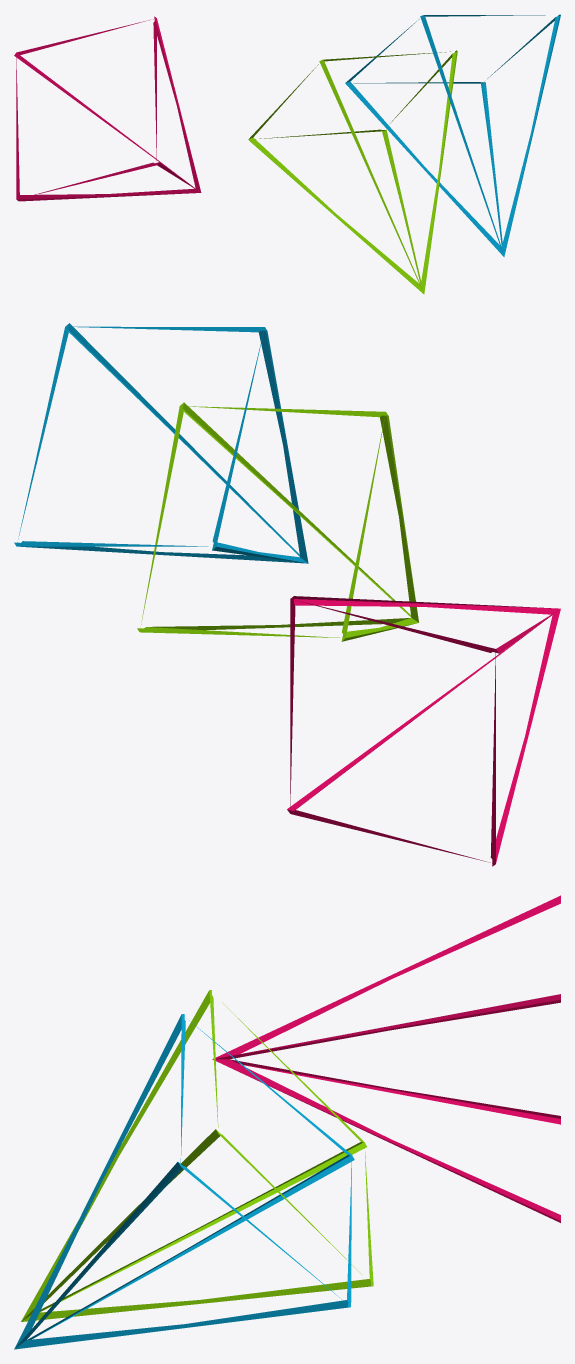
The model's file is wrist_video_20.glb.
The picture shows the model from 3 angles, top to bottom: view 1: azimuth 30°, elevation 25°; view 2: azimuth 150°, elevation 25°; view 3: azimuth 270°, elevation 25°; orthographic projection. The views are drawn at different scales.
Visible parts, largest first — view 1: world; view 2: world; view 3: world.
Part boxes in pixels (x1,y1,x2,y2): world: (14,14,560,294); world: (14,323,560,866); world: (14,895,560,1349).
Size of the model in its own units: 0.3604 by 0.1863 by 0.2661.
